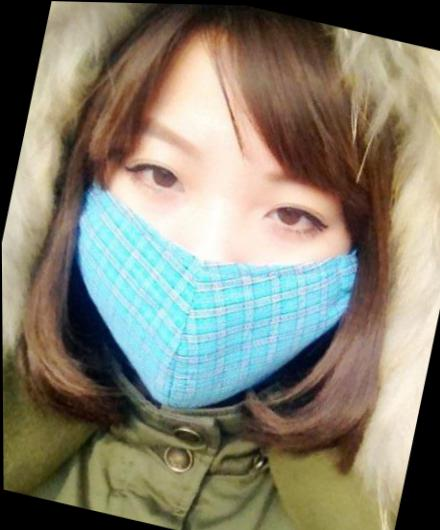WRONG: (40, 80, 389, 451)
